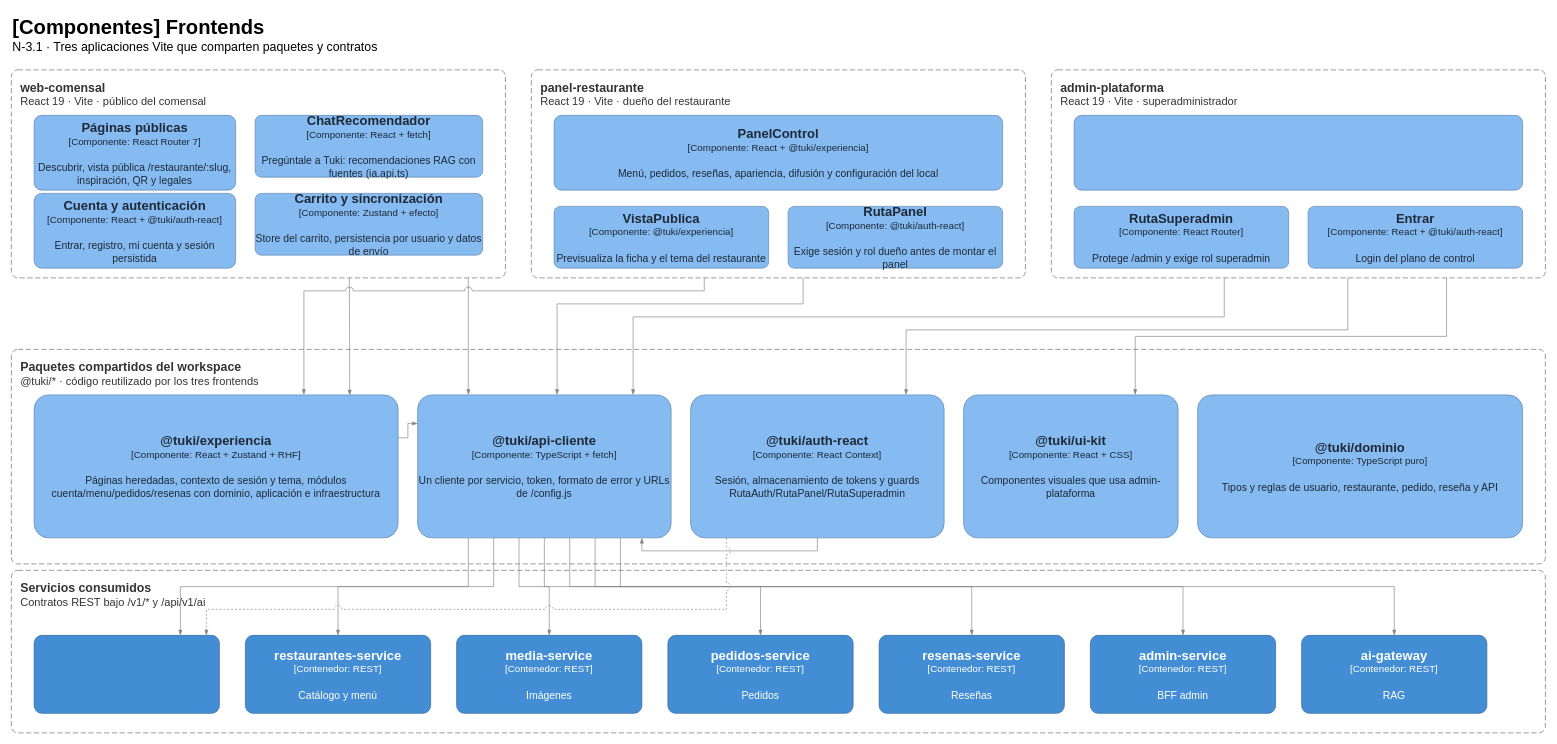
Some shapes in this 1557 by 744 pixel diagram are drawn without their labels. Each missing label, with the centre of its shape:
"identidad-service [Contenedor: REST] JWT y sesiones" goes at (126,674).
"PanelAdmin [Componente: React + hooks] Panorama, locales, usuarios y auditoría" goes at (1298,152).
